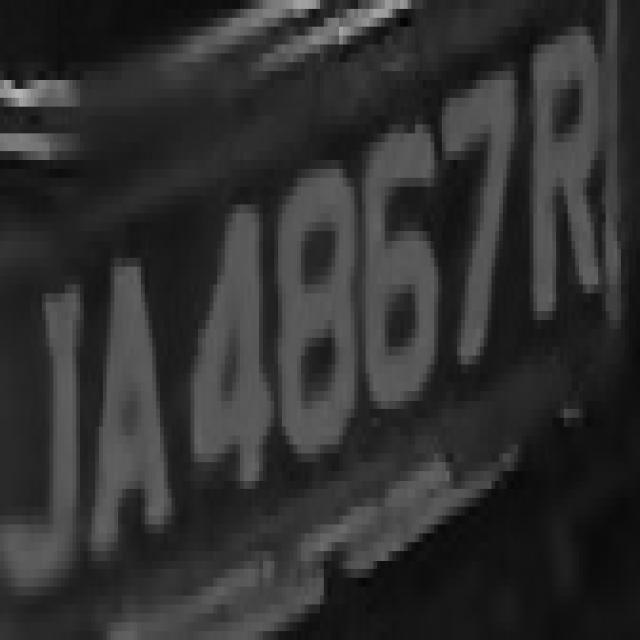4: (194, 178, 282, 507)
6: (354, 106, 450, 426)
7: (438, 89, 522, 409)
8: (270, 160, 362, 489)
A: (91, 213, 179, 560)
J: (19, 258, 84, 631)
R: (522, 18, 613, 338)
